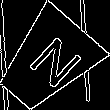N_SW: (14, 30, 80, 94)
